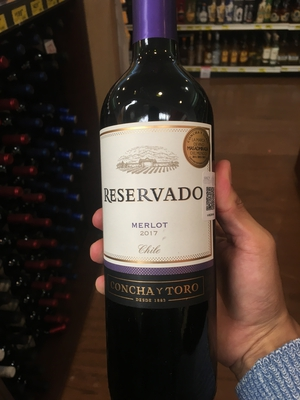reservado merlot: (96, 8, 235, 367)
